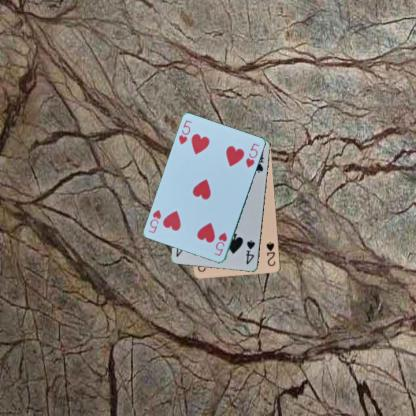2s: (264, 239, 277, 268)
4s: (243, 237, 257, 266)
5h: (176, 118, 194, 146), (212, 230, 228, 257)
